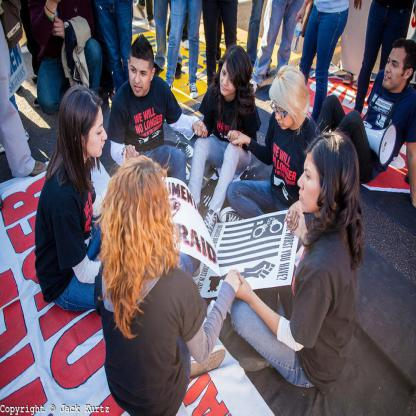face: (299, 152, 322, 211), (89, 106, 108, 158), (130, 54, 151, 98), (383, 51, 403, 87), (274, 101, 294, 130), (221, 63, 233, 97)
